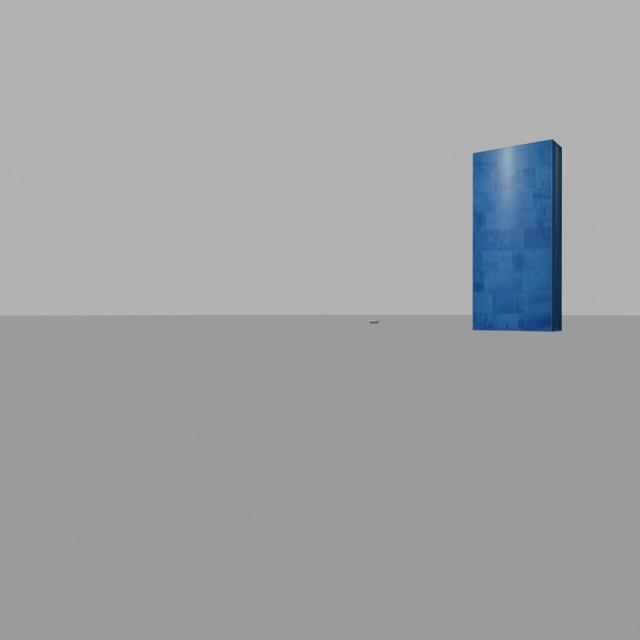bowl: (352, 312, 387, 332)
shelf: (464, 130, 572, 347)
